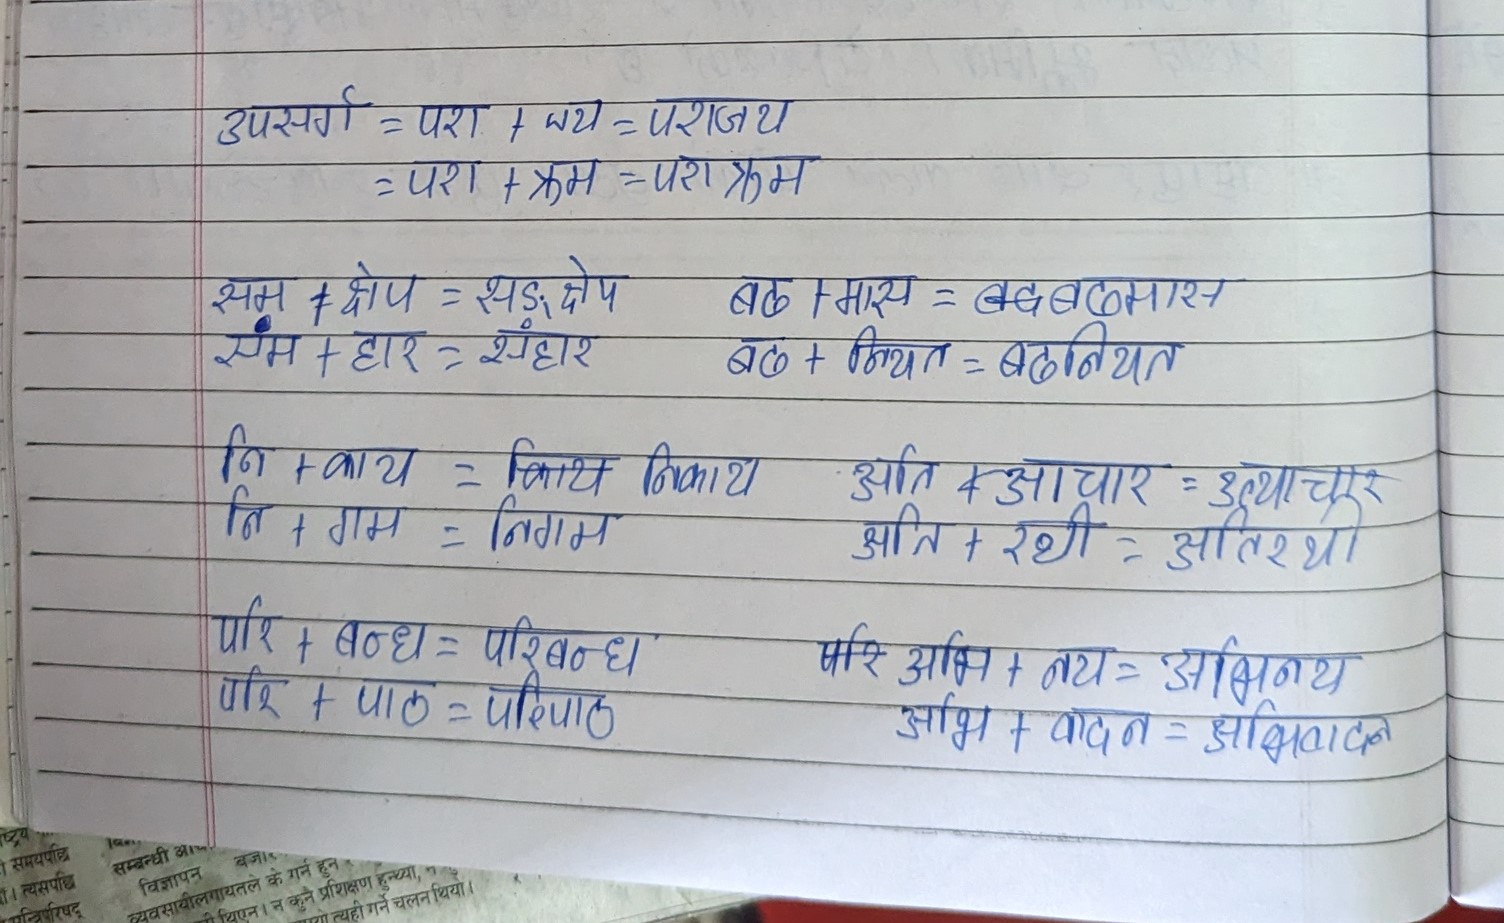text: (1148, 625, 1366, 702), (1204, 701, 1408, 769), (1170, 509, 1369, 573), (199, 83, 379, 149), (1045, 265, 1241, 325), (1209, 448, 1390, 511), (466, 255, 640, 320), (998, 322, 1186, 383), (999, 442, 1156, 511), (476, 611, 657, 672), (479, 673, 627, 742), (648, 149, 814, 210), (636, 87, 806, 141), (634, 438, 770, 503), (482, 495, 619, 556), (1047, 700, 1160, 770), (204, 662, 304, 738), (328, 602, 438, 670), (839, 325, 958, 388), (891, 695, 998, 762), (483, 321, 599, 377), (850, 504, 948, 569), (191, 253, 292, 315), (1003, 506, 1103, 568), (351, 674, 442, 739), (321, 438, 431, 492), (897, 628, 993, 689), (844, 445, 939, 504), (211, 328, 308, 385), (201, 592, 286, 658), (334, 256, 421, 318), (526, 148, 614, 208), (323, 495, 413, 553), (404, 90, 496, 145), (721, 263, 800, 323), (1033, 637, 1111, 697), (836, 265, 919, 320), (345, 328, 430, 379), (215, 417, 277, 481), (397, 154, 480, 202), (223, 485, 276, 553), (721, 340, 796, 384), (537, 88, 604, 138)
